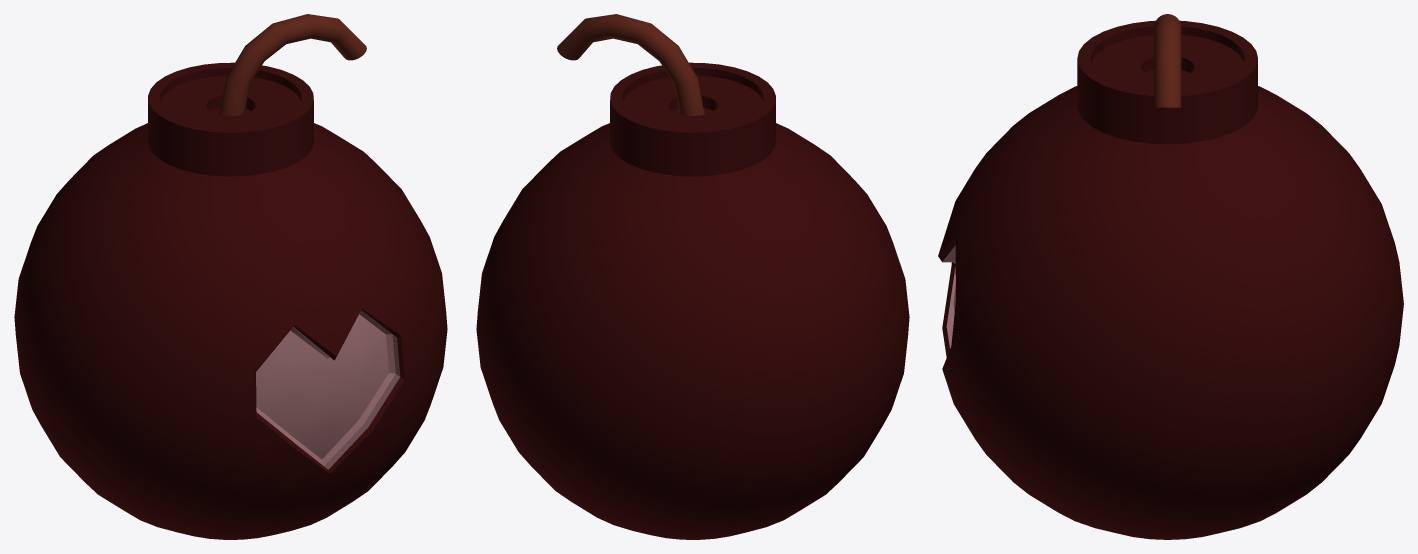
The model's file is 220711_bomb_practice.fbx.
3 renders of one model, left to right at view 1: azimuth 30°, elevation 25°; view 2: azimuth 150°, elevation 25°; view 3: azimuth 270°, elevation 25°, orthographic. The views are drawn at different scales.
Parts seen in each view (by area): view 1: Sphere001; view 2: Sphere001; view 3: Sphere001.
Part boxes in pixels (bbox=[...]): Sphere001: bbox=[14, 14, 447, 539]; Sphere001: bbox=[476, 14, 909, 539]; Sphere001: bbox=[938, 14, 1403, 539].
Bounding box in the file's own units: 18.53 × 22.88 × 18.27.
